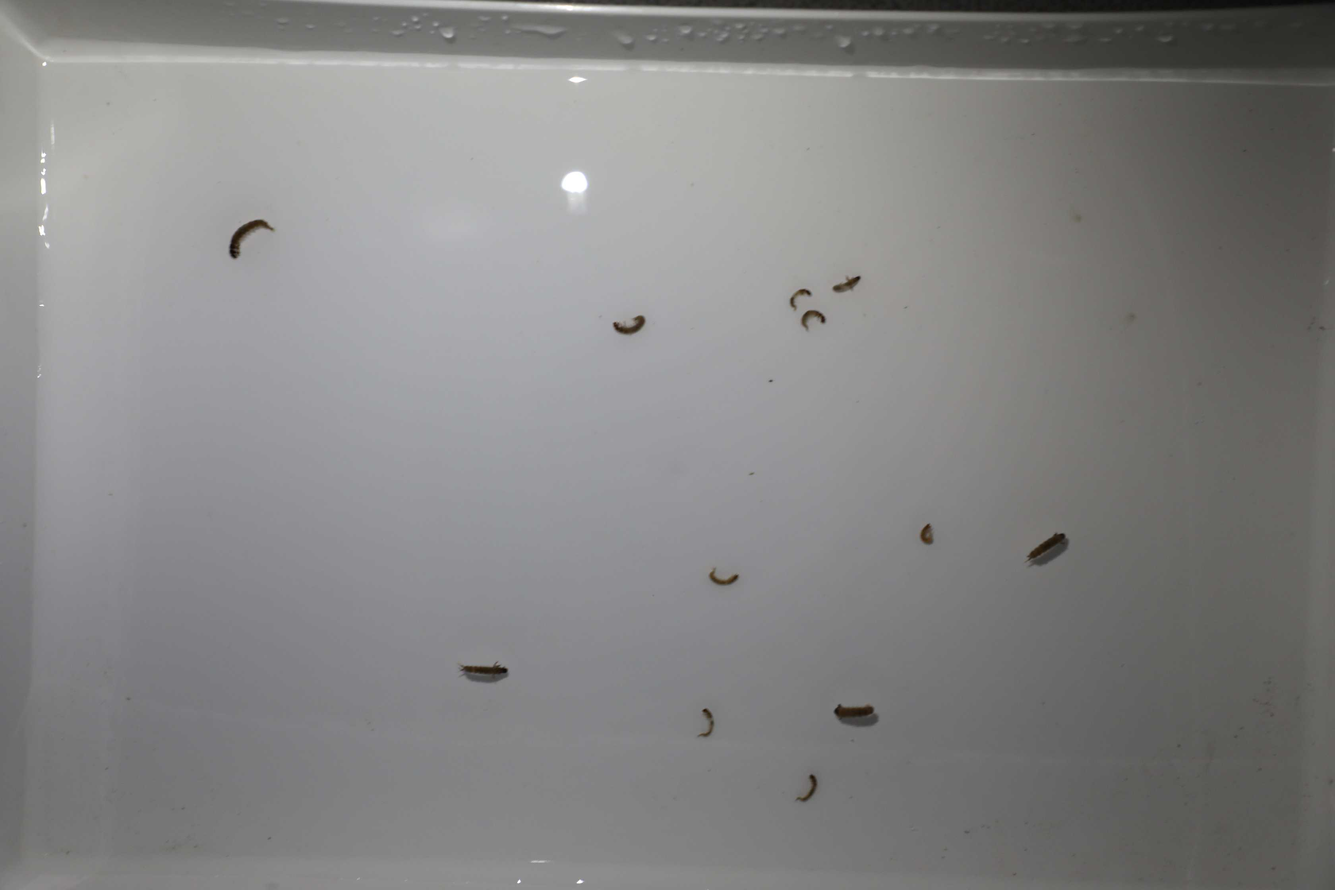Cadisfly: (225, 220, 269, 263), (1022, 532, 1068, 573), (454, 657, 512, 682), (832, 700, 880, 728), (609, 312, 647, 342), (689, 707, 722, 736), (910, 518, 943, 547), (798, 771, 821, 806), (796, 309, 827, 334), (705, 565, 738, 588), (829, 274, 865, 294), (786, 286, 811, 310)
